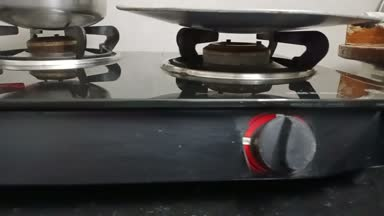noflame_gason: (166, 29, 344, 184)
